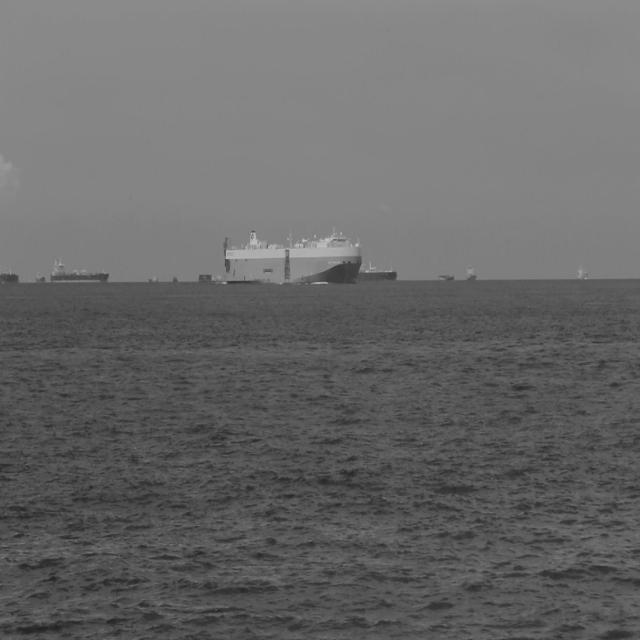ship: (222, 226, 362, 286), (50, 253, 110, 284), (356, 254, 398, 284), (0, 264, 19, 286), (576, 263, 588, 281), (465, 264, 477, 281), (35, 268, 46, 286), (198, 272, 212, 284), (437, 272, 454, 281), (148, 272, 158, 284)
